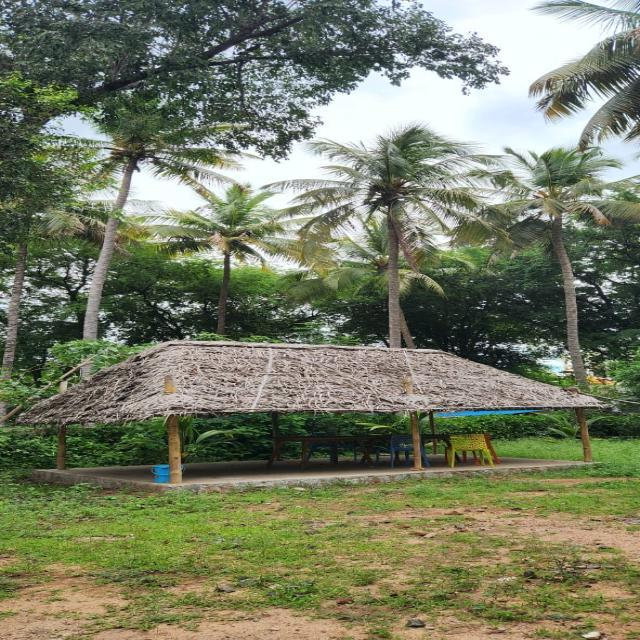Coconut-tree: (479, 152, 628, 394), (301, 133, 464, 343), (156, 175, 273, 333), (519, 0, 640, 148)
